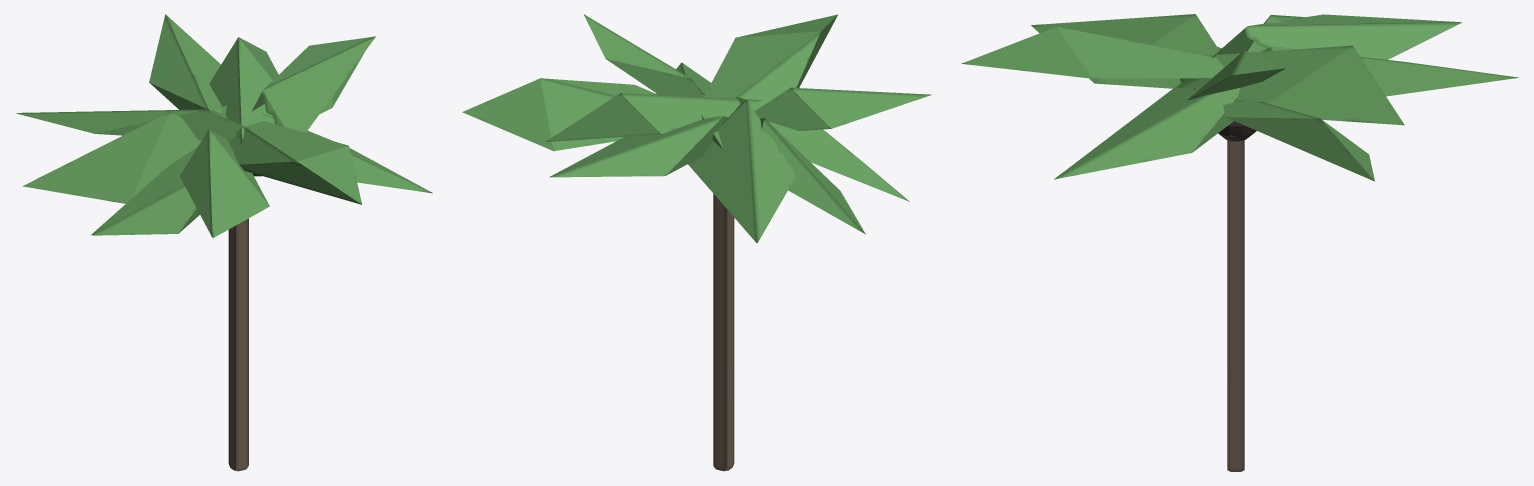
Rendered from palm_tree.obj.
3 views of the same model, side by side, from view 1: azimuth 30°, elevation 25°; view 2: azimuth 150°, elevation 25°; view 3: azimuth 270°, elevation 25° (orthographic). The views are drawn at different scales.
Visible parts, largest first — view 1: cuboid; view 2: cuboid; view 3: cuboid.
Part boxes in pixels (bbox=[...]): cuboid: bbox=[16, 14, 432, 471]; cuboid: bbox=[462, 14, 931, 471]; cuboid: bbox=[961, 14, 1518, 471].
Bounding box in the file's own units: 3.58 × 3.72 × 4.
Materials: 1 (1 with a texture image).
